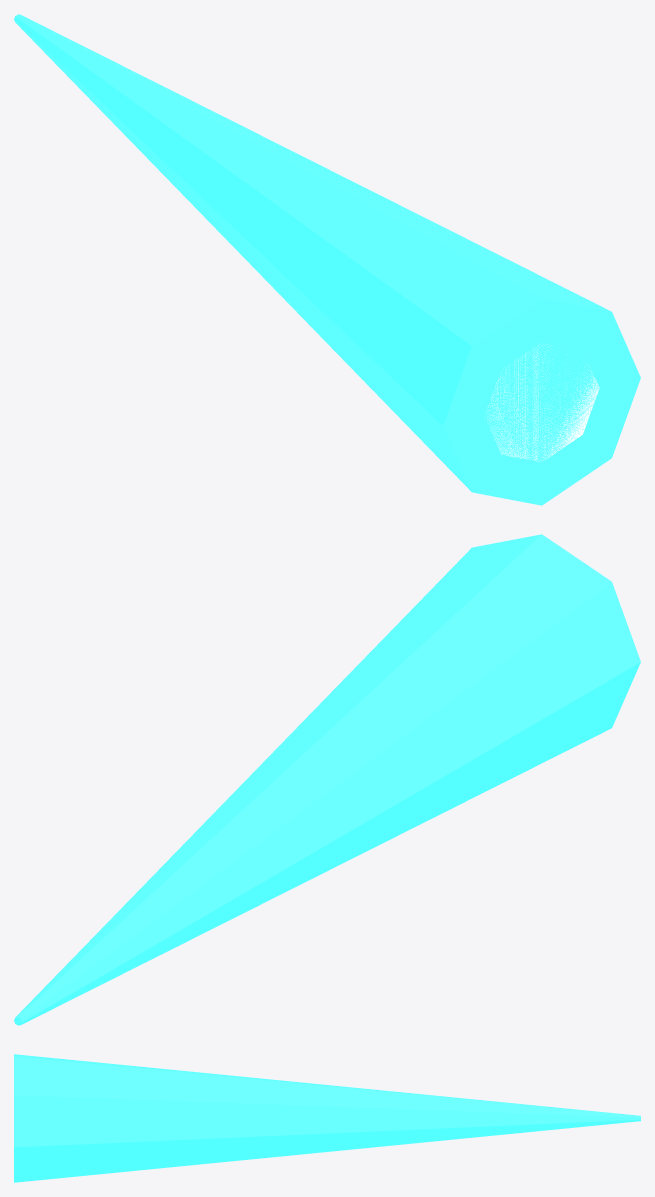
File: VXFX_THRUSTER_v002.fbx
3 renders of one model, top to bottom at view 1: azimuth 30°, elevation 25°; view 2: azimuth 150°, elevation 25°; view 3: azimuth 270°, elevation 25°, orthographic. The views are drawn at different scales.
Visible parts, largest first — view 1: Missile blue plume, Missile hot core; view 2: Missile blue plume; view 3: Missile blue plume.
Boxes of the visible parts, bbox=[...] form: Missile blue plume: bbox=[14, 14, 640, 505]; Missile hot core: bbox=[485, 344, 599, 461]; Missile blue plume: bbox=[14, 534, 640, 1025]; Missile blue plume: bbox=[14, 1054, 640, 1182].
Bounding box in the file's own units: 4.8 × 4.8 × 22.
